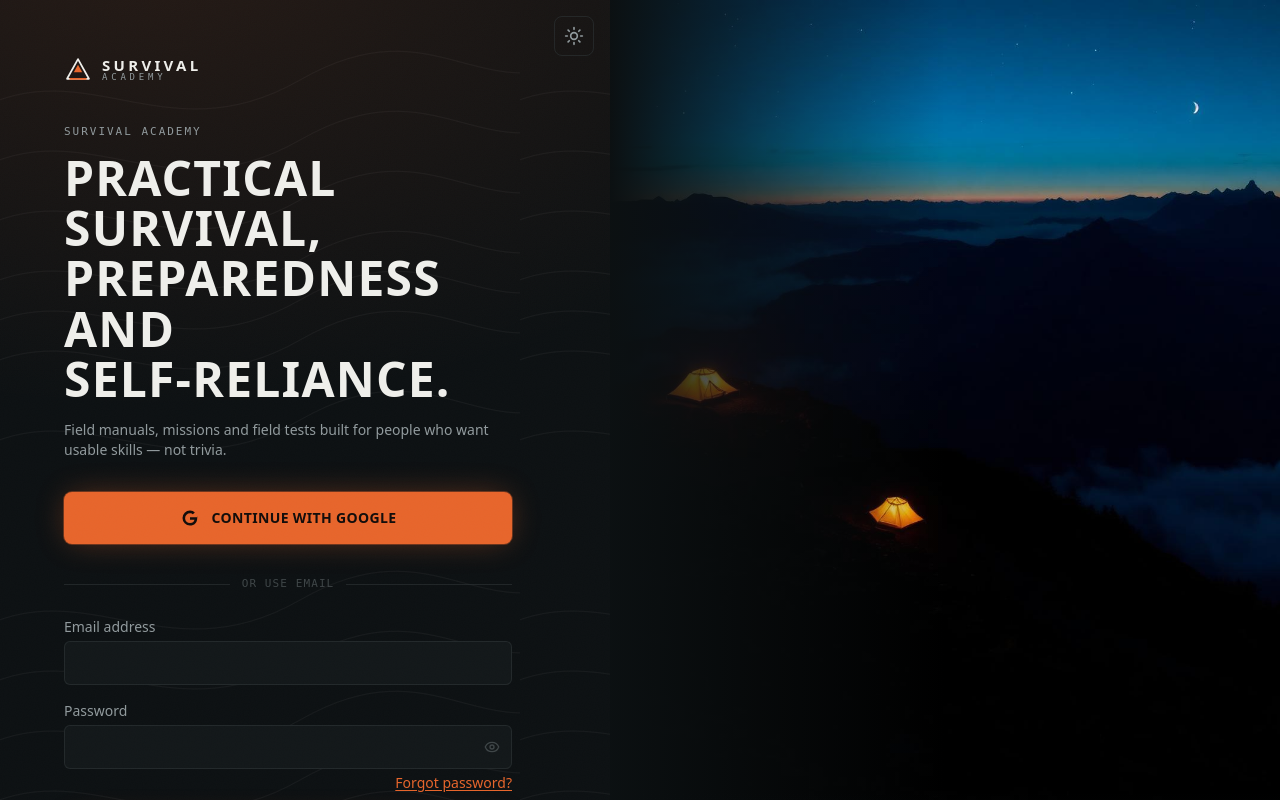
Test: LoginScreen › offers to resend verification when the account is unverified
Type "unverified@example.com" into the field labelled "Email address".
click(288, 663); type("unverified@example.com")  # box [64,641,512,685]
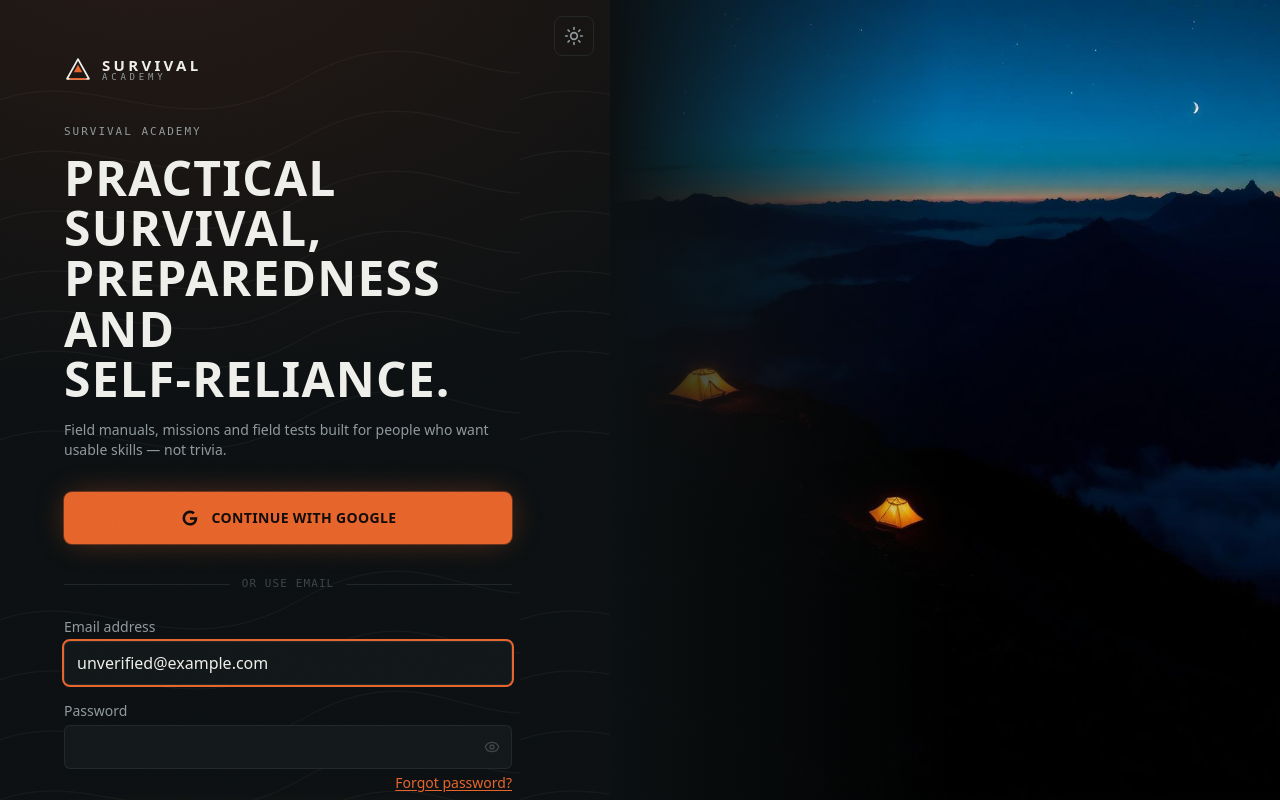
Type "Str0ng!Password#2026" into the password field labelled "Password".
click(288, 747); type("Str0ng!Password#2026")  # box [64,725,512,769]
(page scrolled)
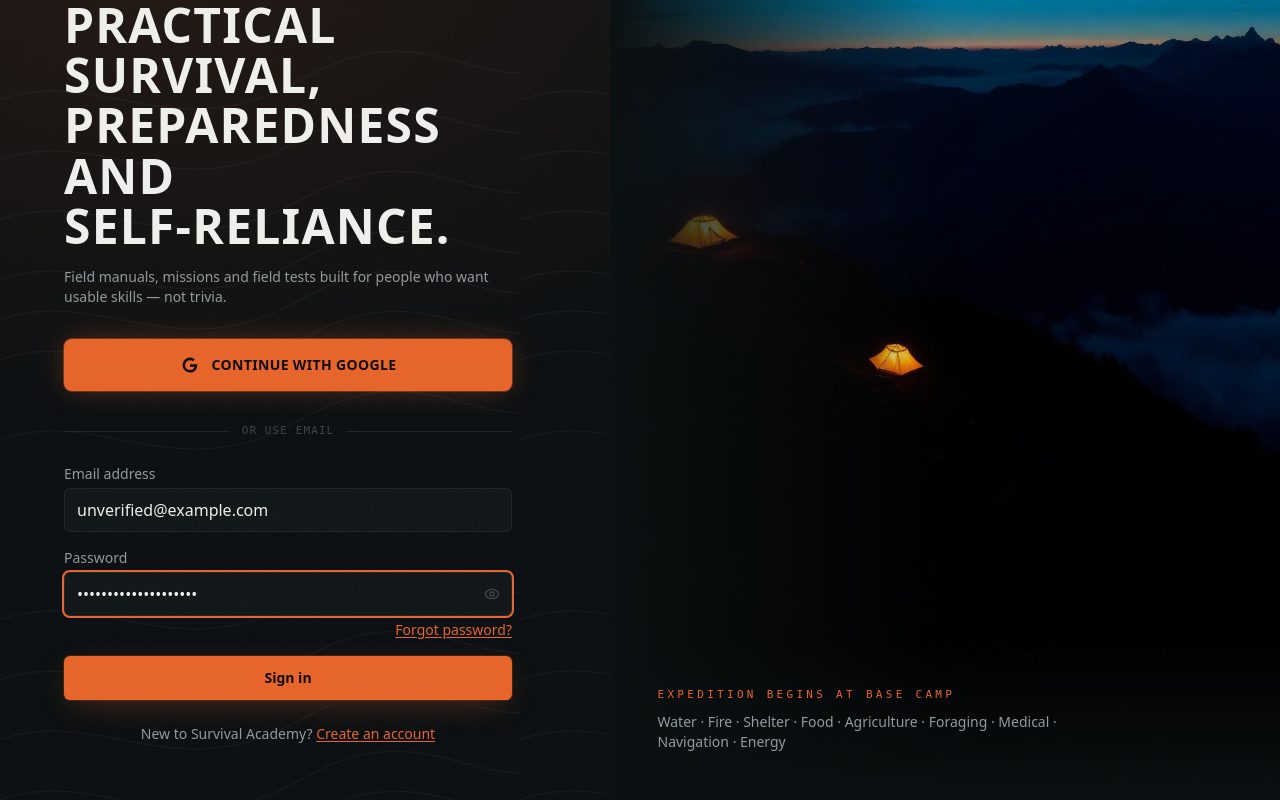
Click the button "Sign in".
click(288, 678)  # box [64,656,512,700]
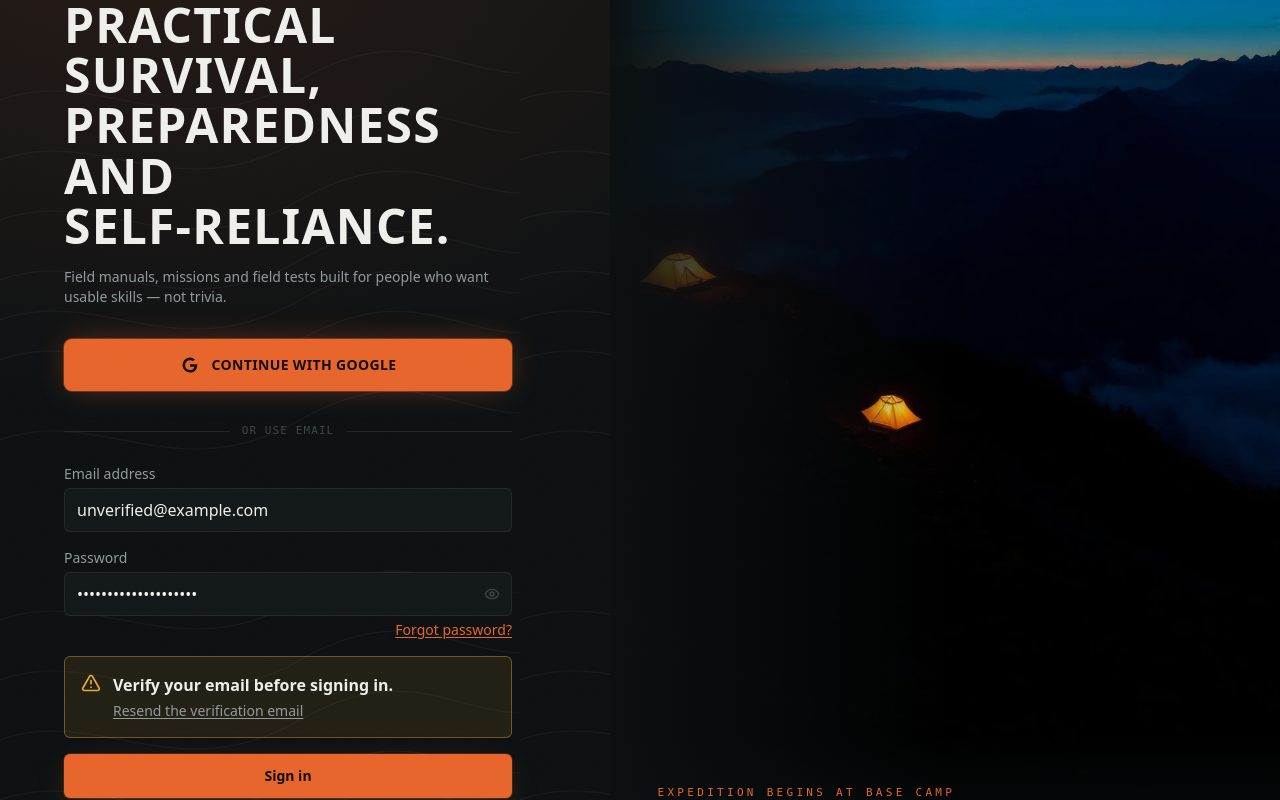
Result: the text "Verify your email before signing in." is shown at [113,673,393,697]
